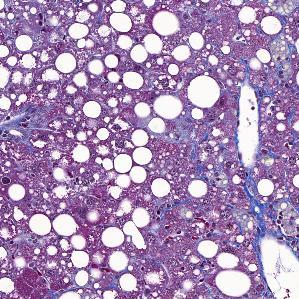fibrosis: (169, 118, 238, 176), (237, 193, 281, 237)
